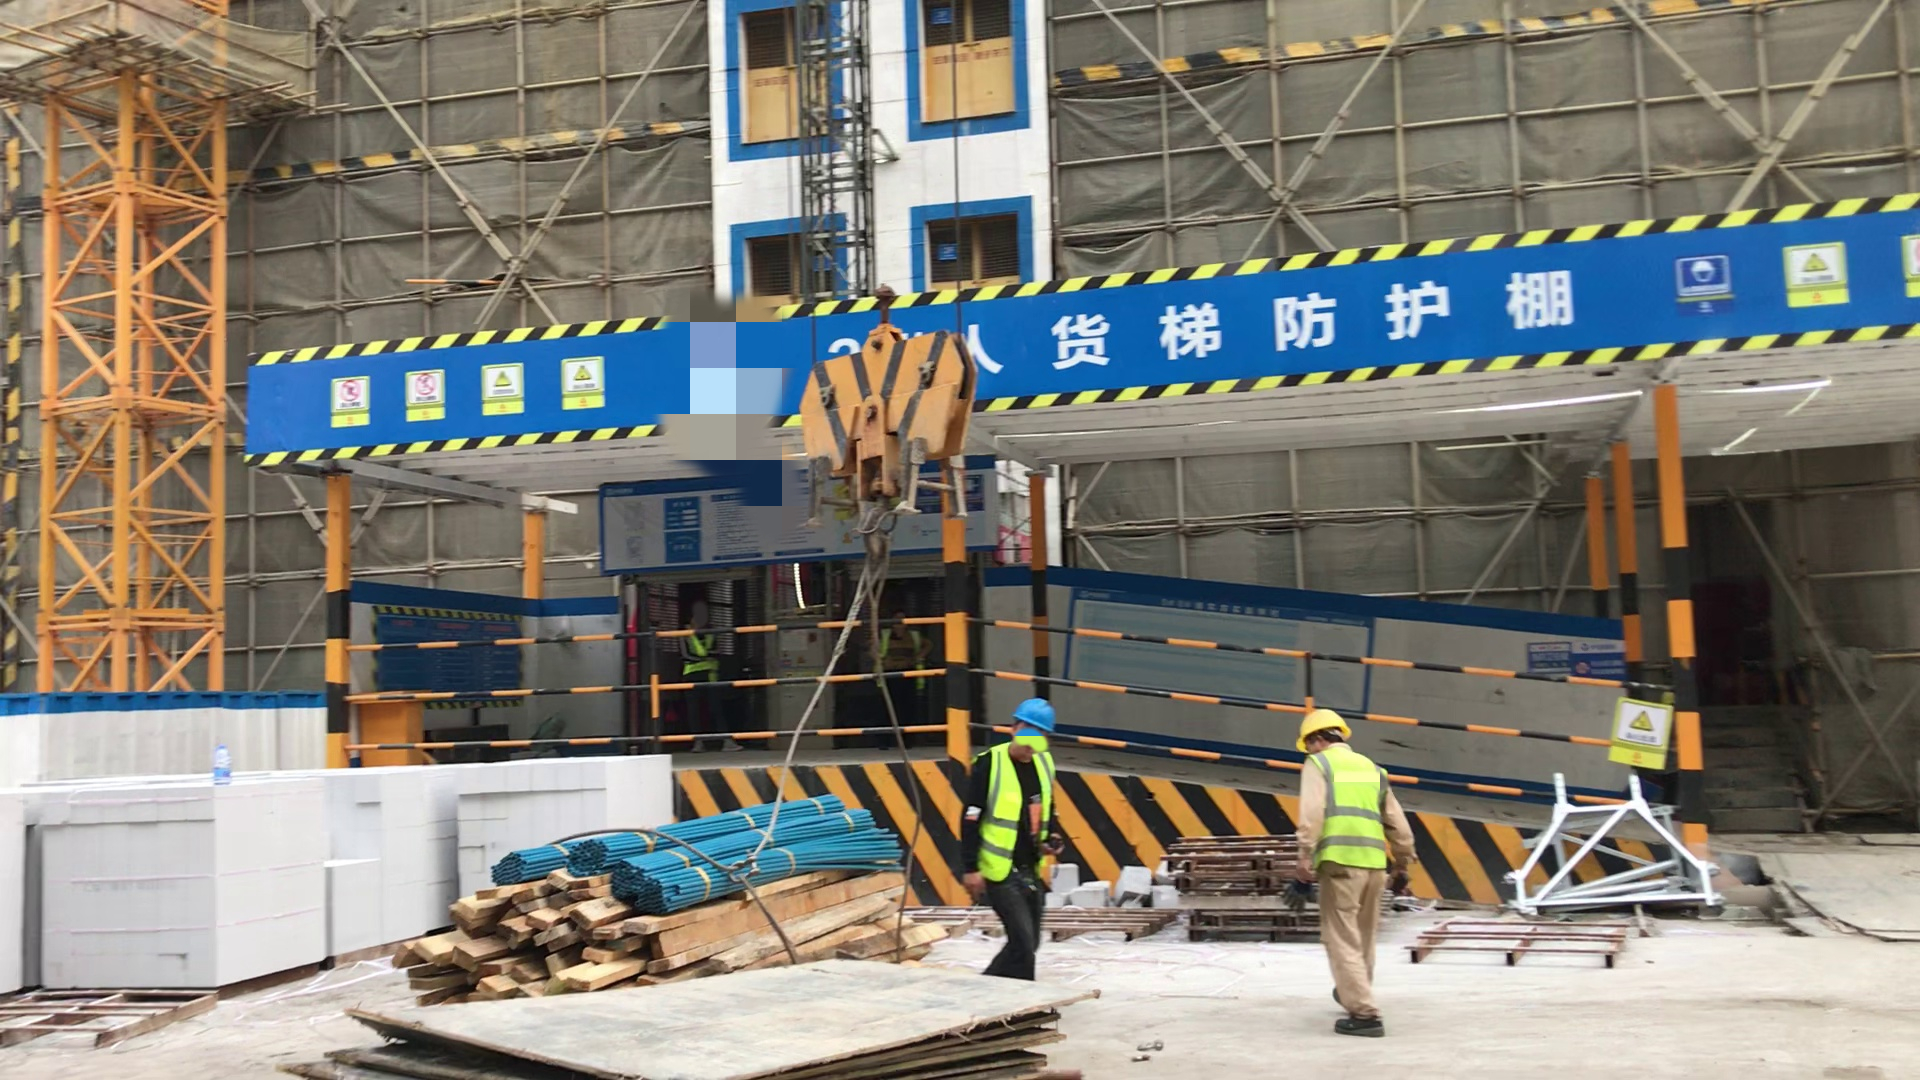board: (321, 966, 1061, 1080)
brick: (44, 784, 332, 993), (350, 758, 682, 892)
helmet: (1296, 708, 1350, 751), (1015, 698, 1054, 734)
hook: (800, 291, 973, 551)
person: (1296, 708, 1408, 1041), (963, 701, 1059, 977)
slogan: (1663, 237, 1920, 312), (329, 358, 606, 422), (1527, 645, 1628, 684), (1619, 697, 1669, 769)
vest: (975, 745, 1055, 877), (1313, 746, 1392, 876)
wood: (420, 885, 917, 1010)
